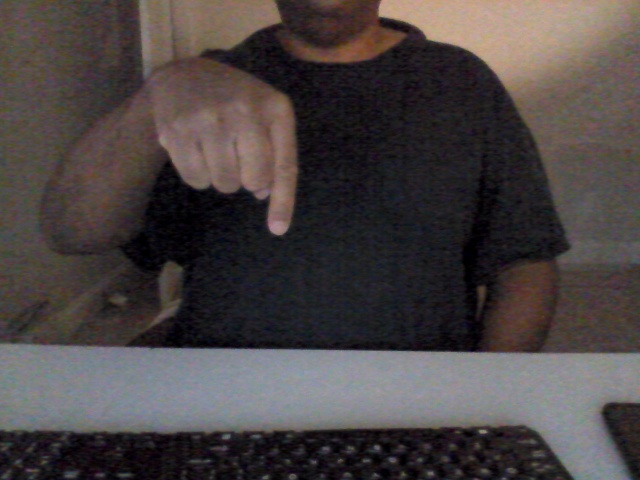down: (140, 52, 302, 247)
